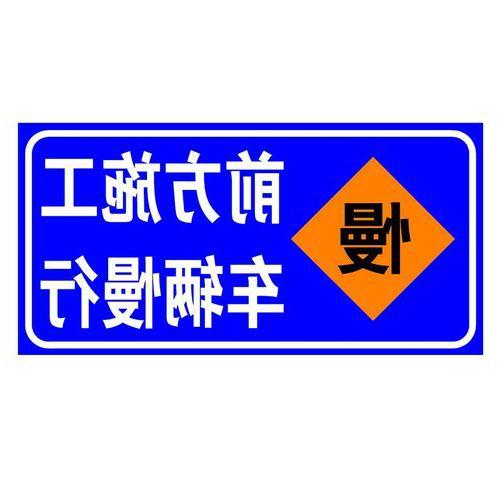sign: (24, 124, 475, 347)
